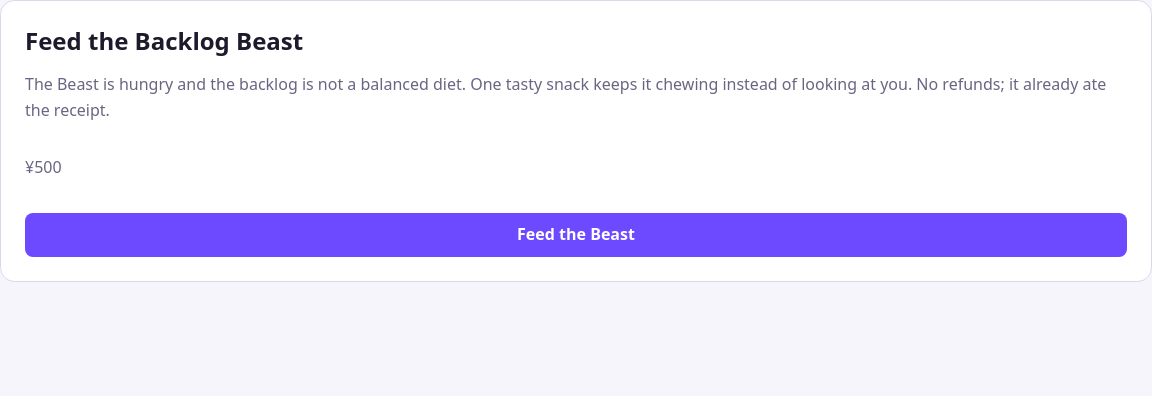
BuyPage › shows the service_unavailable copy and does not redirect
The image size is (1152, 396).
Click the button "Feed the Beast": (576, 235) [25,213,1127,257]
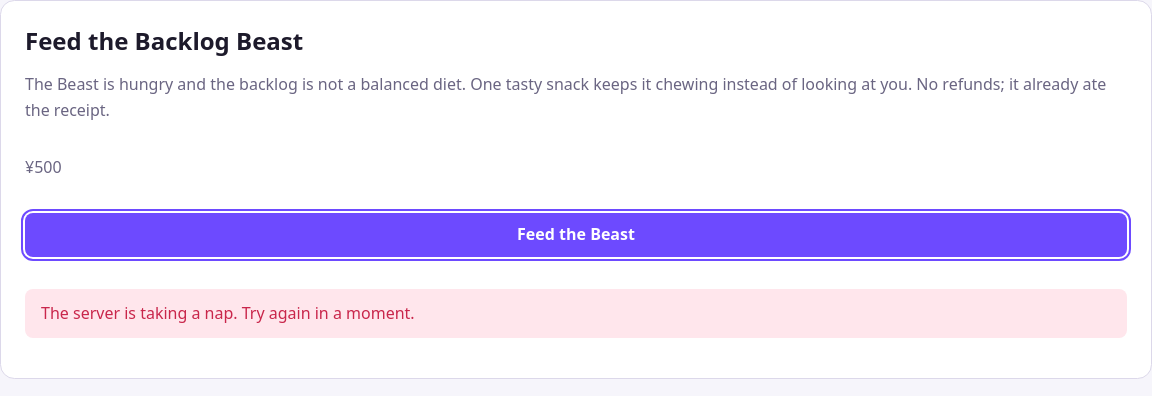
Now the message reads "The server is taking a nap. Try again in a moment.", box [41,302,415,324]
